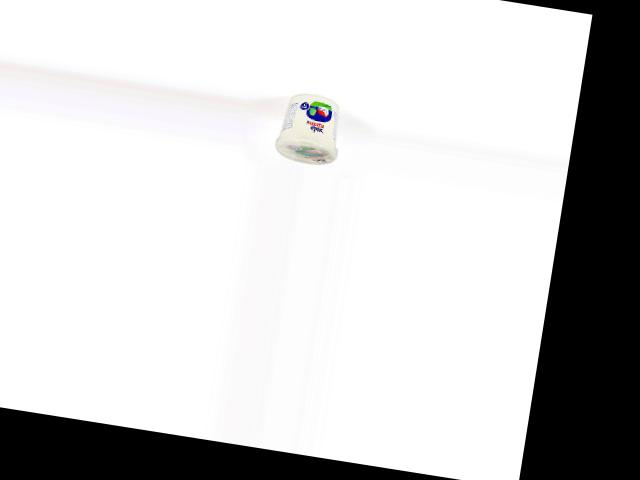cotage: (272, 87, 349, 168)
